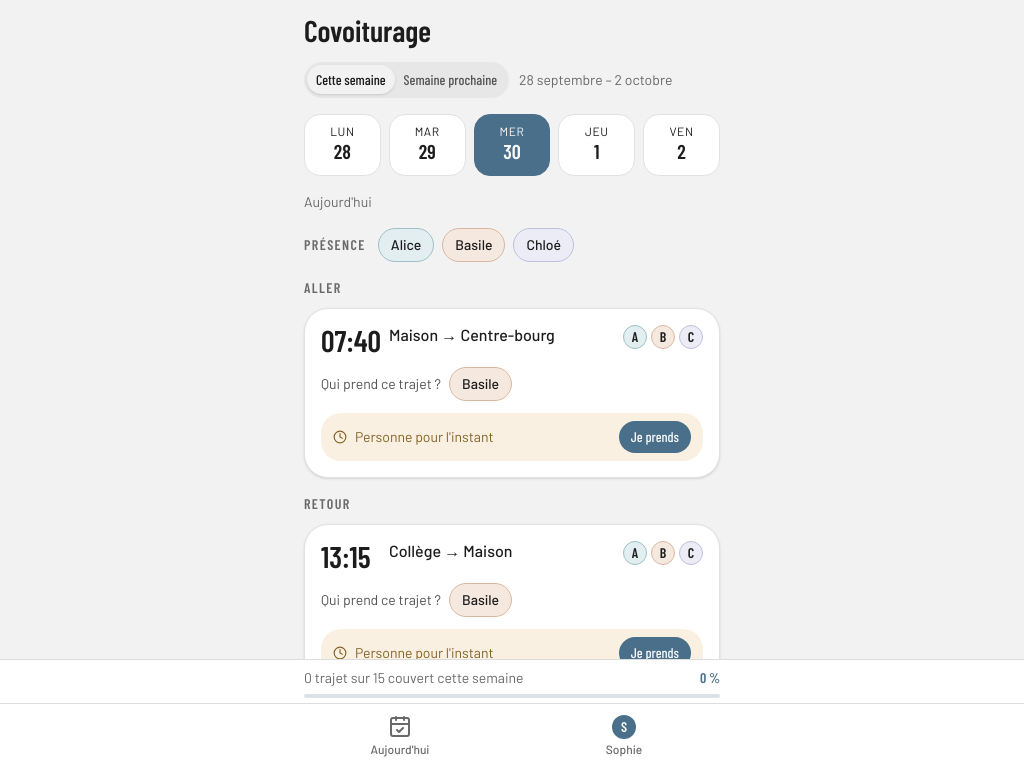
options des enfants › annonce une journée qui ne peut plus être modifiée, et garde son état
Click the button "Basile" below "07:40" at (481, 384), box [449, 366, 512, 400]
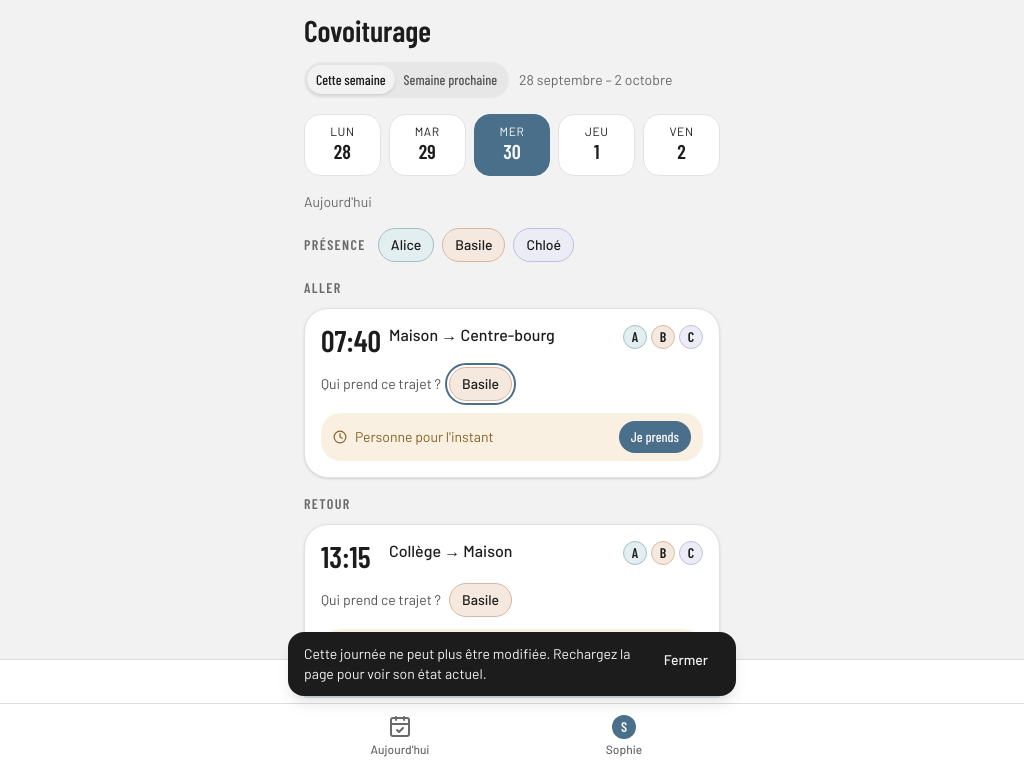
Check: the message shows "Cette journée ne peut plus être modifiée. Rechargez la page pour voir son état actuel.", box [304, 645, 630, 682]
